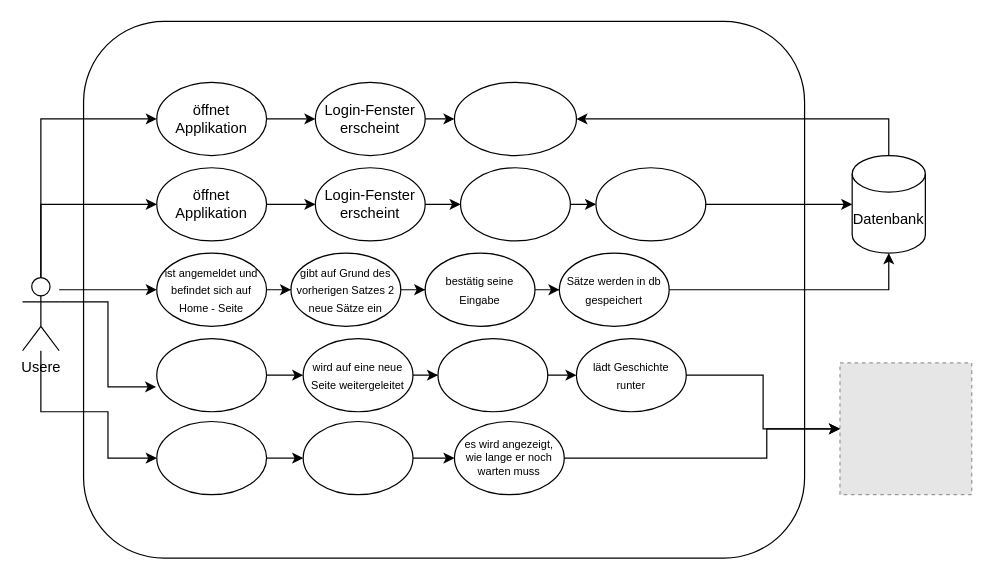
Some shapes in this 993 by 580 pixel diagram are drawn without their labels. Grey dashed boxes stand in for pictures. Here are the shapes that lost their labels. From the top down, the centre of each, then its label:
At [514,118]: "besitzt bereits ein Login und meldet sich erfolgreich an".
At [514,204]: "besitzt noch kein Login und drückt auf Registrieren".
At [650,204]: "registriert sich auf der Registrier - Seite".
At [211,374]: "hat seine zwei Sätze gesendet".
At [492,374]: "drückt auf Button herunterladen".
At [211,457]: "meldet sich an und will die Geschichte erweitern".
At [357,457]: "es sind noch keine 2h vergangen seit dem letzten Erweitern".
